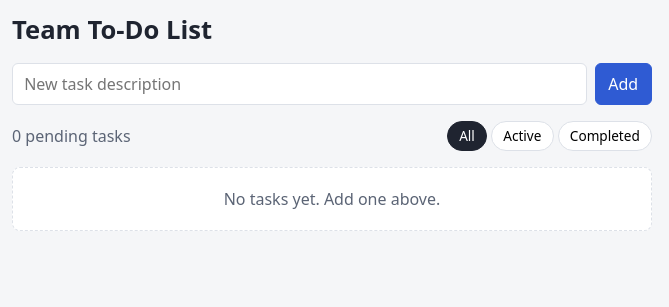
Test: To-Do List › adds tasks and clears the input
Step 1. Type "Write API docs" into the field labelled "New task" → (299, 84), box [12,63,586,105]
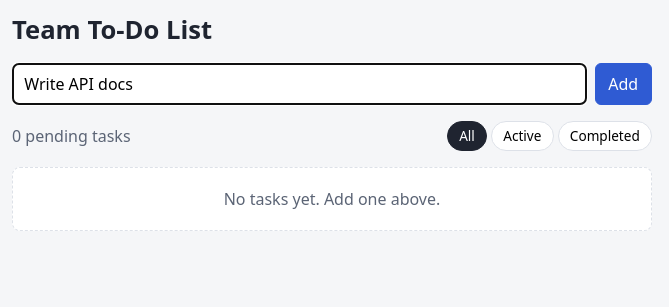
Step 2. Click the button "Add" → (623, 84), box [594,63,652,105]
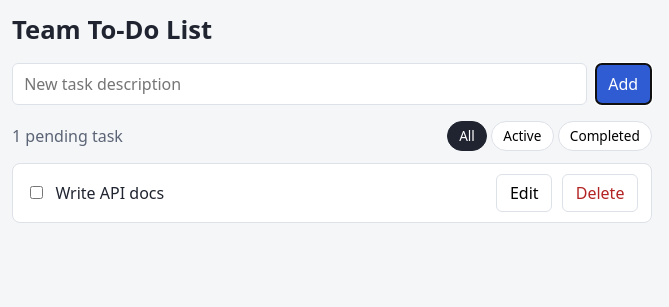
Step 3. Type "Review PR" into the field labelled "New task" → (299, 84), box [12,63,586,105]
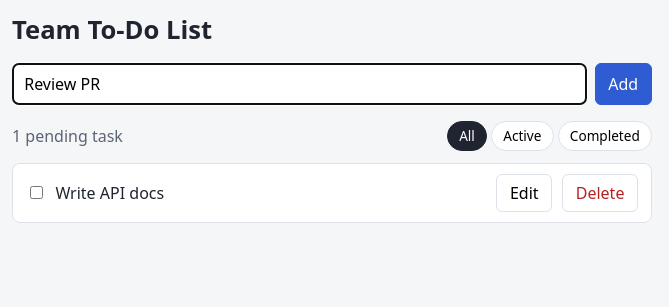
Step 4. Click the button "Add" → (623, 84), box [594,63,652,105]
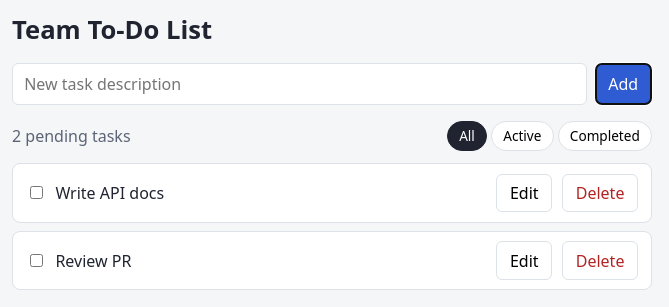
Check: the field labelled "New task" is empty, box [12,63,586,105]
Check: the text "2 pending tasks" is shown, box [12,125,131,147]
